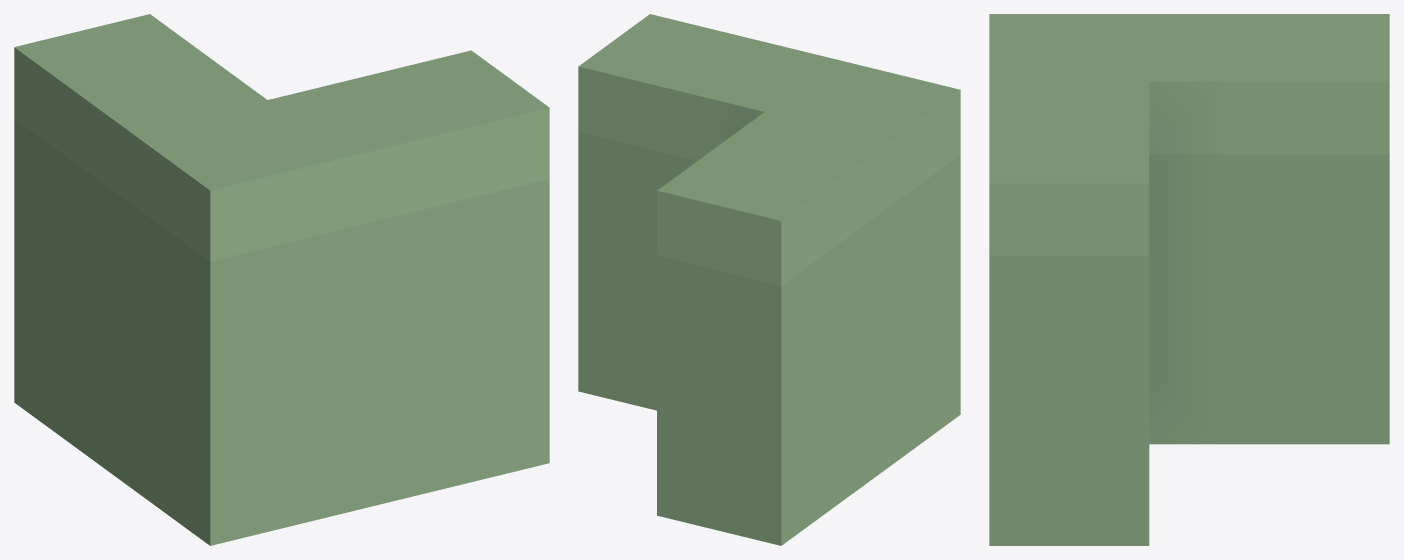
Rendered from hedge.corner.glb.
3 renders of one model, left to right at view 1: azimuth 30°, elevation 25°; view 2: azimuth 150°, elevation 25°; view 3: azimuth 270°, elevation 25°, orthographic. The views are drawn at different scales.
Parts seen in each view (by area): view 1: hedge.corner; view 2: hedge.corner; view 3: hedge.corner.
Part boxes in pixels (x1,y1,x2,y2): hedge.corner: (14,14,549,545); hedge.corner: (578,14,960,545); hedge.corner: (989,14,1389,545).
Size of the model in its own units: 0.625 by 0.625 by 0.625.
